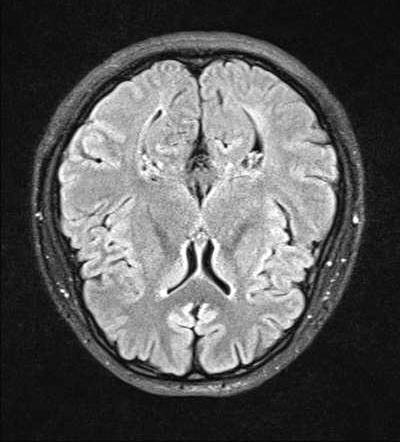Normal_Brain: (10, 5, 400, 435)
